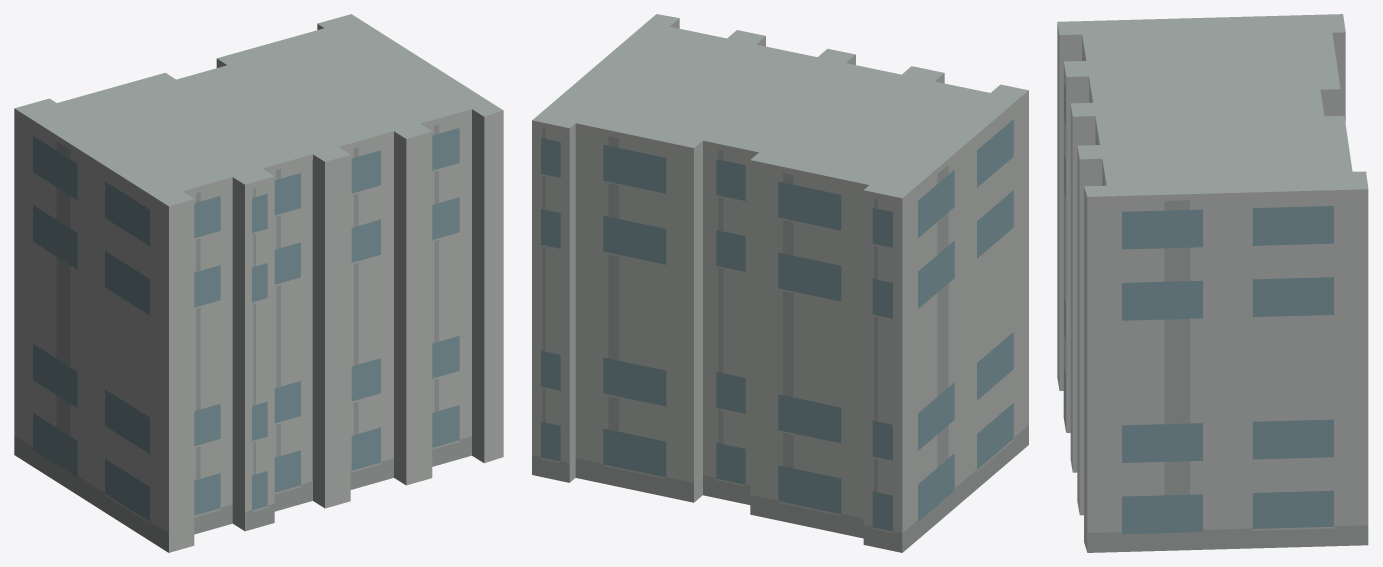
File: survey-upis-32890798.glb
3 renders of one model, left to right at view 1: azimuth 30°, elevation 25°; view 2: azimuth 150°, elevation 25°; view 3: azimuth 270°, elevation 25°, orthographic. The views are drawn at different scales.
Visible parts, largest first — view 1: survey-upis-32890798.tmp; view 2: survey-upis-32890798.tmp; view 3: survey-upis-32890798.tmp.
Boxes of the visible parts, x1,y1,x2,y2 form: survey-upis-32890798.tmp: (14,14,503,552); survey-upis-32890798.tmp: (532,14,1028,552); survey-upis-32890798.tmp: (1057,14,1368,552).
Bounding box in the file's own units: 15.75 × 14.28 × 11.32.
